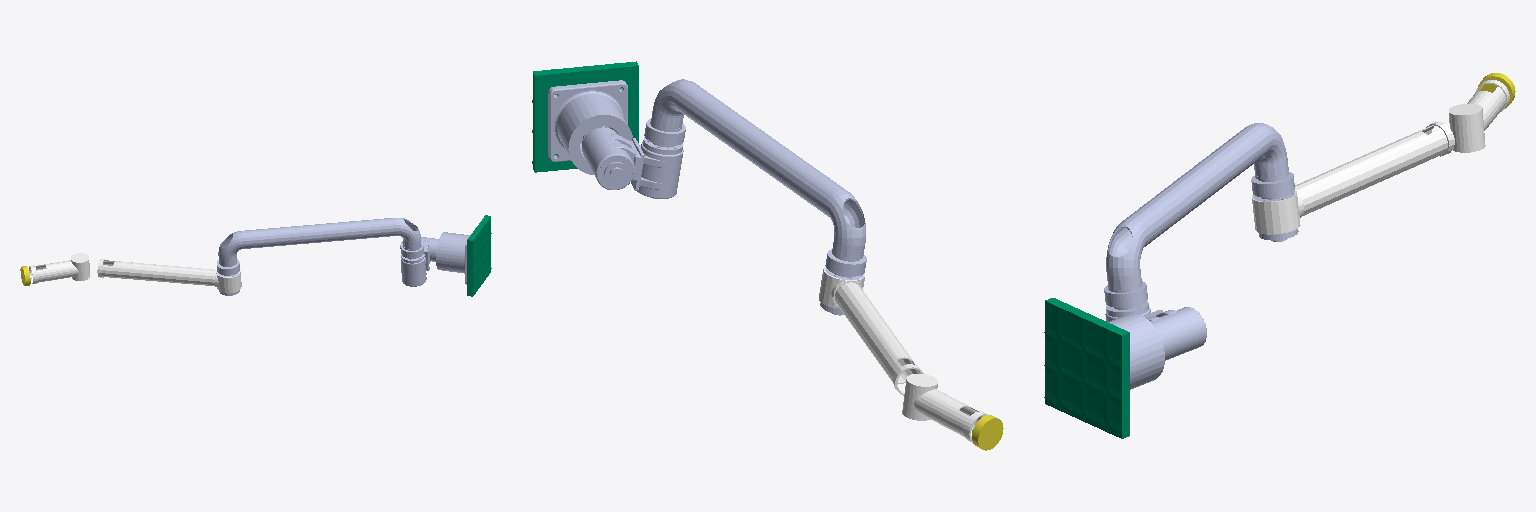
The robot description file, URDF, robot "navstar__starlink_sldasm9":
<?xml version='1.0' encoding='utf-8'?>
<robot name="navstar__starlink_sldasm9">
  <link name="base_link">
    <visual>
      <geometry>
        <mesh filename="../satellites/navstar/satellite.stl" />
      </geometry>
    </visual>
    <collision>
      <geometry>
        <mesh filename="../satellites/navstar/satellite.stl" />
      </geometry>
    </collision>
  </link>
  <link name="navstar_mount" />
  <joint name="satellite_mount_fixed" type="fixed">
    <parent link="base_link" />
    <child link="navstar_mount" />
    <origin xyz="-0.06259960387694356 0.04391826006281371 0.9515232222782899" rpy="-0.823698879557603 -1.5707963267948966 0.0" />
  </joint>
  <link name="mount_support">
    <visual>
      <geometry>
        <mesh filename="../satellites/navstar/mount_support.stl" />
      </geometry>
    </visual>
    <collision>
      <geometry>
        <mesh filename="../satellites/navstar/mount_support.stl" />
      </geometry>
    </collision>
  </link>
  <joint name="support_fixed" type="fixed">
    <parent link="navstar_mount" />
    <child link="mount_support" />
    <origin xyz="0 0 0" rpy="0 0 0" />
  </joint>
  <joint name="arm_adapter_fixed" type="fixed">
    <parent link="navstar_mount" />
    <child link="starlink_space_manipulator_base_link" />
    <origin xyz="0.009087204933166504 0.008519247174263 0.16000000119209296" rpy="-1.5707963267948966 0 0.0" />
  </joint>
  <link name="starlink_space_manipulator_base_link">
    <inertial>
      <origin xyz="-0.00908719924946466 0.0225428225681148 -0.00851924929637313" rpy="0 0 0" />
      <mass value="8.66024015898073" />
      <inertia ixx="0.0960303512697639" ixy="1.65511904636803E-18" ixz="6.22039820639877E-19" iyy="0.103454922260914" iyz="-9.68471289978311E-19" izz="0.0960303512697639" />
    </inertial>
    <visual>
      <origin xyz="0 0 0" rpy="0 0 0" />
      <geometry>
        <mesh filename="../arms/starlink_sldasm9/meshes/starlink_space_manipulator_base_link.STL" />
      </geometry>
      <material name="">
        <color rgba="0.792156862745098 0.819607843137255 0.933333333333333 1" />
      </material>
    </visual>
    <collision>
      <origin xyz="0 0 0" rpy="0 0 0" />
      <geometry>
        <mesh filename="../arms/starlink_sldasm9/meshes/starlink_space_manipulator_base_link.STL" />
      </geometry>
    </collision>
  </link>
  <link name="starlink_space_manipulator_Shoulder_link_1">
    <inertial>
      <origin xyz="-0.000399471745595769 -0.100006574194712 -0.17423940484461" rpy="0 0 0" />
      <mass value="5.16309216784981" />
      <inertia ixx="0.0524543852135592" ixy="0.00348154867667969" ixz="6.96526910910627E-05" iyy="0.0306595326318824" iyz="-0.00056674368052247" izz="0.0439979075615329" />
    </inertial>
    <visual>
      <origin xyz="0 0 0" rpy="0 0 0" />
      <geometry>
        <mesh filename="../arms/starlink_sldasm9/meshes/starlink_space_manipulator_Shoulder_link_1.STL" />
      </geometry>
      <material name="">
        <color rgba="0.792156862745098 0.819607843137255 0.933333333333333 1" />
      </material>
    </visual>
    <collision>
      <origin xyz="0 0 0" rpy="0 0 0" />
      <geometry>
        <mesh filename="../arms/starlink_sldasm9/meshes/starlink_space_manipulator_Shoulder_link_1.STL" />
      </geometry>
    </collision>
  </link>
  <joint name="starlink_space_manipulator_Shoulder_link_1_yaw" type="revolute">
    <origin xyz="-0.0090872 -0.065 -0.0085192" rpy="1.5708 -0.15574 3.1416" />
    <parent link="starlink_space_manipulator_base_link" />
    <child link="starlink_space_manipulator_Shoulder_link_1" />
    <axis xyz="0 0 -1" />
    <limit lower="-3.14" upper="3.14" effort="0" velocity="0" />
  </joint>
  <link name="starlink_space_manipulator_Upper_arm_Link_1">
    <inertial>
      <origin xyz="0.402106341472203 -0.696465272634528 -0.170177523085579" rpy="0 0 0" />
      <mass value="5.05309869040685" />
      <inertia ixx="0.388719013133801" ixy="0.210155896498943" ixz="9.30829370680679E-08" iyy="0.146049057575642" iyz="1.71830458004218E-07" izz="0.500677708275447" />
    </inertial>
    <visual>
      <origin xyz="0 0 0" rpy="0 0 0" />
      <geometry>
        <mesh filename="../arms/starlink_sldasm9/meshes/starlink_space_manipulator_Upper_arm_Link_1.STL" />
      </geometry>
      <material name="">
        <color rgba="0.792156862745098 0.819607843137255 0.933333333333333 1" />
      </material>
    </visual>
    <collision>
      <origin xyz="0 0 0" rpy="0 0 0" />
      <geometry>
        <mesh filename="../arms/starlink_sldasm9/meshes/starlink_space_manipulator_Upper_arm_Link_1.STL" />
      </geometry>
    </collision>
  </link>
  <joint name="starlink_space_manipulator_Upper_arm_Link_1_roll" type="revolute">
    <origin xyz="0 -0.2 -0.18" rpy="1.5708 0.90646 1.5708" />
    <parent link="starlink_space_manipulator_Shoulder_link_1" />
    <child link="starlink_space_manipulator_Upper_arm_Link_1" />
    <axis xyz="0 0 -1" />
    <limit lower="-2" upper="1.5" effort="0" velocity="0" />
  </joint>
  <link name="starlink_space_manipulator_Mid_arm_Link_1">
    <inertial>
      <origin xyz="-0.000406052776441013 0.317722269561105 0.0155331755135703" rpy="0 0 0" />
      <mass value="1.57635531881168" />
      <inertia ixx="0.133610363618846" ixy="5.33750993405138E-05" ixz="-3.60473795202962E-09" iyy="0.00502119434334708" iyz="-2.514275749911E-05" izz="0.134586018527477" />
    </inertial>
    <visual>
      <origin xyz="0 0 0" rpy="0 0 0" />
      <geometry>
        <mesh filename="../arms/starlink_sldasm9/meshes/starlink_space_manipulator_Mid_arm_Link_1.STL" />
      </geometry>
      <material name="">
        <color rgba="1 1 1 1" />
      </material>
    </visual>
    <collision>
      <origin xyz="0 0 0" rpy="0 0 0" />
      <geometry>
        <mesh filename="../arms/starlink_sldasm9/meshes/starlink_space_manipulator_Mid_arm_Link_1.STL" />
      </geometry>
    </collision>
  </link>
  <joint name="starlink_space_manipulator_Mid_arm_Link_1_roll" type="revolute">
    <origin xyz="0.599999999999673 -1.03923048454122 0" rpy="-3.14159265358979 0 0.828250280535091" />
    <parent link="starlink_space_manipulator_Upper_arm_Link_1" />
    <child link="starlink_space_manipulator_Mid_arm_Link_1" />
    <axis xyz="0 0 -1" />
    <limit lower="-3.14" upper="3.14" effort="0" velocity="0" />
  </joint>
  <link name="starlink_space_manipulator_Upper_wrist_Link_1">
    <inertial>
      <origin xyz="-0.000400003664721815 -0.201565878030355 -0.00216705855311664" rpy="0 0 0" />
      <mass value="0.994770641034713" />
      <inertia ixx="0.00165409639029414" ixy="-7.59103925411082E-06" ixz="-3.17403155320863E-06" iyy="0.00201437937768072" iyz="2.63246464091218E-06" izz="0.00159638838344539" />
    </inertial>
    <visual>
      <origin xyz="0 0 0" rpy="0 0 0" />
      <geometry>
        <mesh filename="../arms/starlink_sldasm9/meshes/starlink_space_manipulator_Upper_wrist_Link_1.STL" />
      </geometry>
      <material name="">
        <color rgba="0.792156862745098 0.819607843137255 0.933333333333333 1" />
      </material>
    </visual>
    <collision>
      <origin xyz="0 0 0" rpy="0 0 0" />
      <geometry>
        <mesh filename="../arms/starlink_sldasm9/meshes/starlink_space_manipulator_Upper_wrist_Link_1.STL" />
      </geometry>
    </collision>
  </link>
  <joint name="starlink_space_manipulator_Upper_wrist_Link_1_yaw" type="revolute">
    <origin xyz="-0.00050155183276912 0.686793643713439 0.0155010481432086" rpy="0 -0.0763876794035917 3.14159265358979" />
    <parent link="starlink_space_manipulator_Mid_arm_Link_1" />
    <child link="starlink_space_manipulator_Upper_wrist_Link_1" />
    <axis xyz="0 -1 0" />
    <limit lower="-3.14" upper="3.14" effort="0" velocity="0" />
  </joint>
  <link name="starlink_space_manipulator_Upper_wrist_Link_2">
    <inertial>
      <origin xyz="8.45304168883843E-08 0.0848318719623631 -0.00515657391755576" rpy="0 0 0" />
      <mass value="1.03716823037577" />
      <inertia ixx="0.0100970561498589" ixy="1.32295633551837E-09" ixz="-9.43675929999229E-09" iyy="0.00222325407426665" iyz="-2.08772874866187E-06" izz="0.0105840577017538" />
    </inertial>
    <visual>
      <origin xyz="0 0 0" rpy="0 0 0" />
      <geometry>
        <mesh filename="../arms/starlink_sldasm9/meshes/starlink_space_manipulator_Upper_wrist_Link_2.STL" />
      </geometry>
      <material name="">
        <color rgba="1 1 1 1" />
      </material>
    </visual>
    <collision>
      <origin xyz="0 0 0" rpy="0 0 0" />
      <geometry>
        <mesh filename="../arms/starlink_sldasm9/meshes/starlink_space_manipulator_Upper_wrist_Link_2.STL" />
      </geometry>
    </collision>
  </link>
  <joint name="starlink_space_manipulator_Upper_wrist_Link_2_roll" type="revolute">
    <origin xyz="0 -0.30020635628656 0" rpy="-0.0158640776811277 -0.0317448426184613 -2.67805461574742" />
    <parent link="starlink_space_manipulator_Upper_wrist_Link_1" />
    <child link="starlink_space_manipulator_Upper_wrist_Link_2" />
    <axis xyz="0 0 1" />
    <limit lower="-2.5" upper="1.8" effort="0" velocity="0" />
  </joint>
  <link name="starlink__space_manipulator_2F-Body_Link">
    </link>
  <joint name="starlink__space_manipulator_2F-Body_Link_yaw" type="revolute">
    <origin xyz="0 0.34845 -0.0053813" rpy="-3.1416 0.93592 0" />
    <parent link="starlink_space_manipulator_Upper_wrist_Link_2" />
    <child link="starlink__space_manipulator_2F-Body_Link" />
    <axis xyz="0 -1 0" />
    <limit lower="-3.14" upper="3.14" effort="0" velocity="0" />
  </joint>
  <link name="angular_hand">
    <visual>
      <geometry>
        <mesh filename="../arms/starlink_sldasm9/meshes/hand_2finger.STL" scale="2 2 2" />
      </geometry>
    </visual>
    <collision>
      <geometry>
        <mesh filename="../arms/starlink_sldasm9/meshes/hand_2finger.STL" scale="2 2 2" />
      </geometry>
    </collision>
  </link>
  <joint name="angular_hand_fixed" type="fixed">
    <parent link="starlink__space_manipulator_2F-Body_Link" />
    <child link="angular_hand" />
    <origin xyz="0 -0.036 0" rpy="-1.5707963267948966 0 0" />
  </joint>
  <link name="angular_adapter">
    <visual>
      <geometry>
        <mesh filename="../arms/starlink_sldasm9/meshes/angular_adapter.stl" />
      </geometry>
    </visual>
    <collision>
      <geometry>
        <mesh filename="../arms/starlink_sldasm9/meshes/angular_adapter.stl" />
      </geometry>
    </collision>
  </link>
  <joint name="angular_adapter_fixed" type="fixed">
    <parent link="starlink__space_manipulator_2F-Body_Link" />
    <child link="angular_adapter" />
    <origin xyz="0 -0.0005 0" rpy="1.5707963267948966 0 0" />
  </joint>
  <link name="angular_finger_1">
    <visual>
      <geometry>
        <mesh filename="../arms/starlink_sldasm9/meshes/finger_proximal.STL" scale="2 2 2" />
      </geometry>
    </visual>
    <collision>
      <geometry>
        <mesh filename="../arms/starlink_sldasm9/meshes/finger_proximal.STL" scale="2 2 2" />
      </geometry>
    </collision>
  </link>
  <link name="angular_tip_1">
    <visual>
      <geometry>
        <mesh filename="../arms/starlink_sldasm9/meshes/finger_distal.STL" scale="2 2 2" />
      </geometry>
    </visual>
    <collision>
      <geometry>
        <mesh filename="../arms/starlink_sldasm9/meshes/finger_distal.STL" scale="2 2 2" />
      </geometry>
    </collision>
  </link>
  <joint name="angular_joint_1" type="revolute">
    <parent link="angular_hand" />
    <child link="angular_finger_1" />
    <axis xyz="0 0 1" />
    <origin xyz="-0.005 0.0619 -0.22964" rpy="-1.570796327 .649262481663582 1.5707963267948966" />
    <limit lower="0" upper="1.51" effort="2" velocity="1" />
  </joint>
  <joint name="angular_joint_tip_1" type="revolute">
    <parent link="angular_finger_1" />
    <child link="angular_tip_1" />
    <axis xyz="0 0 1" />
    <origin xyz="0.088 -0.006 0.0" rpy="0 0 0" />
    <limit lower="0" upper="2" effort="2" velocity="1" />
  </joint>
  <link name="angular_finger_2">
    <visual>
      <geometry>
        <mesh filename="../arms/starlink_sldasm9/meshes/finger_proximal.STL" scale="2 2 2" />
      </geometry>
    </visual>
    <collision>
      <geometry>
        <mesh filename="../arms/starlink_sldasm9/meshes/finger_proximal.STL" scale="2 2 2" />
      </geometry>
    </collision>
  </link>
  <link name="angular_tip_2">
    <visual>
      <geometry>
        <mesh filename="../arms/starlink_sldasm9/meshes/finger_distal.STL" scale="2 2 2" />
      </geometry>
    </visual>
    <collision>
      <geometry>
        <mesh filename="../arms/starlink_sldasm9/meshes/finger_distal.STL" scale="2 2 2" />
      </geometry>
    </collision>
  </link>
  <joint name="angular_joint_2" type="revolute">
    <parent link="angular_hand" />
    <child link="angular_finger_2" />
    <axis xyz="0 0 1" />
    <origin xyz="-0.005 -0.0619 -0.22964" rpy="-1.570796327 .649262481663582 -1.5707963267948966" />
    <limit lower="0" upper="1.51" effort="2" velocity="1" />
  </joint>
  <joint name="angular_joint_tip_2" type="revolute">
    <parent link="angular_finger_2" />
    <child link="angular_tip_2" />
    <axis xyz="0 0 1" />
    <origin xyz="0.088 -0.006 0.0" rpy="0 0 0" />
    <limit lower="0" upper="2" effort="2" velocity="1" />
  </joint>
  <link name="angular_tcp" />
  <joint name="angular_tcp_fixed" type="fixed">
    <parent link="angular_hand" />
    <child link="angular_tcp" />
    <origin xyz="-0.005 0 -0.34" rpy="3.141592653589793 0 0" />
  </joint>
</robot>

--- Facts derived from the render (not from the file) ---
Views: 3 orthographic renders of the robot side by side, from view 1: azimuth 30°, elevation 25°; view 2: azimuth 150°, elevation 25°; view 3: azimuth 270°, elevation 25°.
Model navstar__starlink_sldasm9 with 17 links and 16 joints (10 revolute, 6 fixed), rooted at base_link, posed every joint at zero.
Visible links, largest first — view 1: starlink_space_manipulator_Upper_arm_Link_1, starlink_space_manipulator_Mid_arm_Link_1, mount_support, starlink_space_manipulator_Shoulder_link_1, starlink_space_manipulator_Upper_wrist_Link_2, starlink_space_manipulator_base_link; view 2: starlink_space_manipulator_Upper_arm_Link_1, starlink_space_manipulator_Shoulder_link_1, starlink_space_manipulator_base_link, starlink_space_manipulator_Mid_arm_Link_1, mount_support, starlink_space_manipulator_Upper_wrist_Link_2, angular_adapter; view 3: starlink_space_manipulator_Upper_arm_Link_1, mount_support, starlink_space_manipulator_Mid_arm_Link_1, starlink_space_manipulator_Shoulder_link_1, starlink_space_manipulator_Upper_wrist_Link_2, starlink_space_manipulator_base_link.
Boxes of the visible links, x1,y1,x2,y2 form: starlink_space_manipulator_Upper_arm_Link_1: (217,218,421,295); starlink_space_manipulator_Mid_arm_Link_1: (97,259,241,293); mount_support: (467,215,491,296); starlink_space_manipulator_Shoulder_link_1: (400,237,438,286); starlink_space_manipulator_Upper_wrist_Link_2: (29,253,89,283); starlink_space_manipulator_base_link: (436,228,475,284); starlink_space_manipulator_Upper_arm_Link_1: (650,79,866,315); starlink_space_manipulator_Shoulder_link_1: (582,119,685,198); starlink_space_manipulator_base_link: (548,80,632,174); starlink_space_manipulator_Mid_arm_Link_1: (819,266,923,395); mount_support: (532,61,638,172); starlink_space_manipulator_Upper_wrist_Link_2: (902,374,987,442); angular_adapter: (972,415,1003,450); starlink_space_manipulator_Upper_arm_Link_1: (1106,123,1298,292); mount_support: (1044,298,1129,438); starlink_space_manipulator_Mid_arm_Link_1: (1252,122,1454,234); starlink_space_manipulator_Shoulder_link_1: (1104,281,1206,360); starlink_space_manipulator_Upper_wrist_Link_2: (1449,80,1509,152); starlink_space_manipulator_base_link: (1108,313,1164,389).
Bounding box of the posed robot: 2.76 × 1.65 × 0.5288 m (x, y, z).
Meshes: 12 distinct files referenced, 7 mesh visuals loaded (7 binary STL); not drawn: 7 (reference not matched to a file when rendering).
